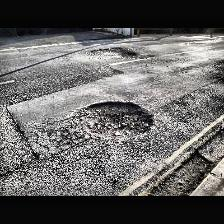pothole: (144, 150, 214, 195), (76, 100, 154, 138), (88, 45, 138, 59)
